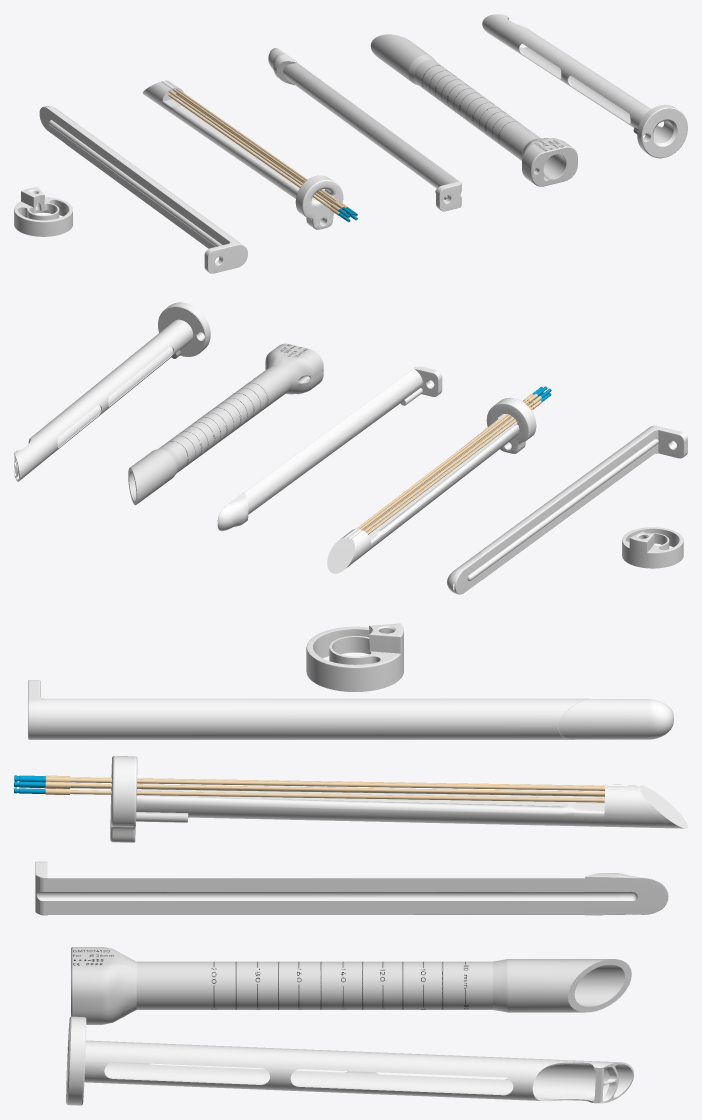
Rendered from Maastro.glb.
The picture shows the model from 3 angles, top to bottom: view 1: azimuth 30°, elevation 25°; view 2: azimuth 150°, elevation 25°; view 3: azimuth 270°, elevation 25°; orthographic projection. The views are drawn at different scales.
Parts seen in each view (by area): view 1: GM404_01_002_F2, GM404_01_007_A1, GM404_01_003_E4, GM404_01_003_E3, GM404_01_001_C15, GM404_01_005_B1, GM404_01_001_C1_point, GM404_01_001_C1_point5, GM404_01_001_C1_point4, GM404_01_001_C1_point2; view 2: GM404_01_002_F2, GM404_01_007_A1, GM404_01_003_E4, GM404_01_003_E3, GM404_01_001_C15, GM404_01_005_B1, GM404_01_001_C1_point, GM404_01_001_C1_point5, GM404_01_001_C1_point4, GM404_01_001_C1_point2; view 3: GM404_01_002_F2, GM404_01_003_E4, GM404_01_007_A1, GM404_01_003_E3, GM404_01_001_C15, GM404_01_005_B1, GM404_01_001_C1_point3, GM404_01_001_C1_point2, GM404_01_001_C1_point5, GM404_01_001_C1_point, GM404_01_001_C1_point4.
Part boxes in pixels (x1=…): GM404_01_002_F2: x1=370, y1=34, x2=577, y2=186; GM404_01_007_A1: x1=482, y1=14, x2=687, y2=158; GM404_01_003_E4: x1=39, y1=106, x2=247, y2=273; GM404_01_003_E3: x1=268, y1=48, x2=461, y2=211; GM404_01_001_C15: x1=142, y1=80, x2=343, y2=229; GM404_01_005_B1: x1=14, y1=187, x2=72, y2=236; GM404_01_001_C1_point: x1=168, y1=90, x2=349, y2=218; GM404_01_001_C1_point5: x1=172, y1=88, x2=353, y2=215; GM404_01_001_C1_point4: x1=168, y1=94, x2=350, y2=222; GM404_01_001_C1_point2: x1=176, y1=88, x2=357, y2=216; GM404_01_002_F2: x1=128, y1=343, x2=323, y2=505; GM404_01_007_A1: x1=14, y1=302, x2=210, y2=481; GM404_01_003_E4: x1=447, y1=425, x2=687, y2=594; GM404_01_003_E3: x1=217, y1=366, x2=442, y2=531; GM404_01_001_C15: x1=327, y1=397, x2=536, y2=573; GM404_01_005_B1: x1=622, y1=527, x2=683, y2=568; GM404_01_001_C1_point: x1=364, y1=388, x2=551, y2=532; GM404_01_001_C1_point5: x1=360, y1=386, x2=547, y2=530; GM404_01_001_C1_point4: x1=367, y1=392, x2=551, y2=534; GM404_01_001_C1_point2: x1=356, y1=386, x2=543, y2=529; GM404_01_002_F2: x1=71, y1=947, x2=631, y2=1024; GM404_01_003_E4: x1=28, y1=680, x2=673, y2=739; GM404_01_007_A1: x1=66, y1=1016, x2=633, y2=1105; GM404_01_003_E3: x1=35, y1=861, x2=668, y2=915; GM404_01_001_C15: x1=110, y1=756, x2=687, y2=842; GM404_01_005_B1: x1=306, y1=623, x2=403, y2=691; GM404_01_001_C1_point3: x1=14, y1=788, x2=604, y2=802; GM404_01_001_C1_point2: x1=14, y1=781, x2=604, y2=795; GM404_01_001_C1_point5: x1=14, y1=776, x2=604, y2=790; GM404_01_001_C1_point: x1=14, y1=775, x2=604, y2=786; GM404_01_001_C1_point4: x1=14, y1=783, x2=604, y2=796.
Size of the model in its own units: 0.5211 by 0.0425 by 0.3163.
16 materials, 14 textured.
